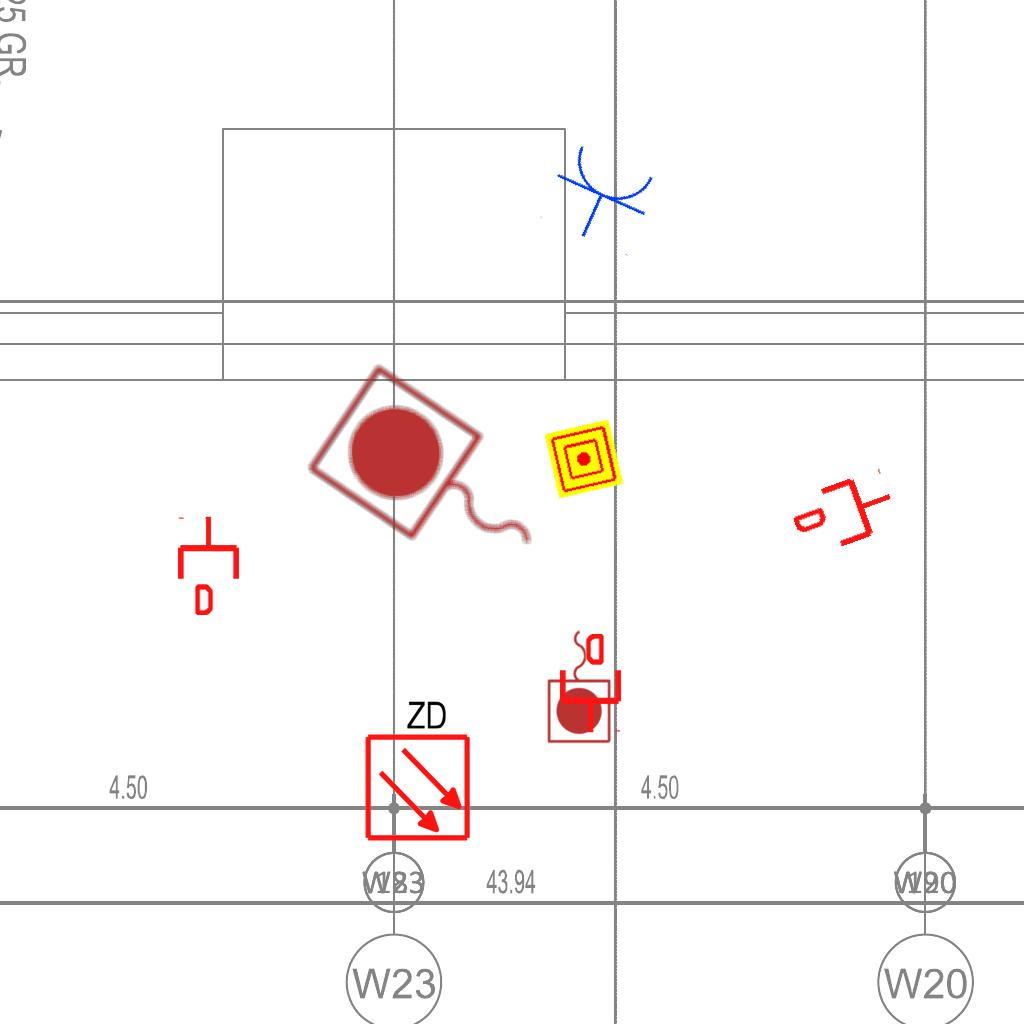Datenanschluss_einfach: (785, 463, 904, 563), (174, 515, 243, 615), (556, 634, 625, 734)
NAM-Nichtautomatischer_Melder: (544, 419, 624, 499)
Schukosteckdose_einfach: (537, 137, 665, 258)
ZD_Melder_in_Zwischendecke_mit_Revisionsoeffnung_mind_40_x_40_cm: (359, 694, 473, 843)
Zugtaster: (294, 354, 578, 610), (544, 625, 616, 747)
